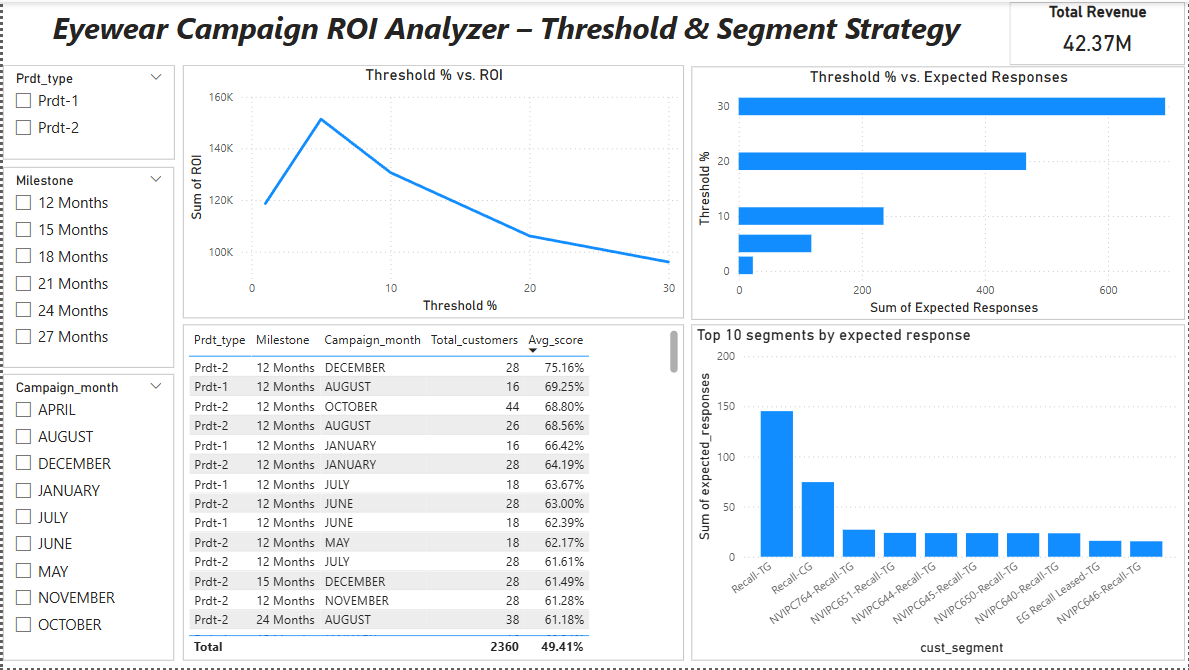

The dashboard page shown, as its layout file describes it:
{"tool":"powerbi","page":{"name":"Page 1","canvas":[1280,720],"ordinal":0},"visuals":[{"type":"lineChart","title":"Threshold % vs. ROI","fields":{"Category":["Threshold_ROI_Summary.Threshold %"],"Y":["Sum(Threshold_ROI_Summary.ROI)"]},"box":[194.3,68,540.8,273.6],"z":0},{"type":"barChart","title":"Threshold % vs. Expected Responses ","fields":{"Category":["Threshold_ROI_Summary.Threshold %"],"Y":["Sum(Threshold_ROI_Summary.Expected Responses)"]},"box":[743.2,69.6,532.7,273.6],"z":1000},{"type":"tableEx","fields":{"Values":["Campaign_Segment_Performance.prdt_type","Campaign_Segment_Performance.milestone","Campaign_Segment_Performance.campaign_month","Sum(Campaign_Segment_Performance.total_customers)","Avg(Campaign_Segment_Performance.avg_score)"]},"box":[194.3,348.1,540.8,362.7],"z":2000},{"type":"clusteredColumnChart","title":"Top 10 segments by expected response ","fields":{"Category":["Campaign_Segment_Performance.cust_segment"],"Y":["Sum(Campaign_Segment_Performance.expected_responses)"]},"box":[743.2,348.1,532.7,362.7],"z":3000},{"type":"card","title":"Total Revenue","fields":{"Values":["Sum(Threshold_ROI_Summary.Actual Revenue (USD))"]},"box":[1086.5,0,189.4,68],"z":4000},{"type":"slicer","fields":{"Values":["Campaign_Segment_Performance.prdt_type"]},"box":[0,68,185,102],"z":5000},{"type":"slicer","fields":{"Values":["Campaign_Segment_Performance.milestone"]},"box":[0,177.3,184.6,217],"z":6000},{"type":"slicer","fields":{"Values":["Campaign_Segment_Performance.campaign_month"]},"box":[0,401.6,184.6,309.3],"z":7000},{"type":"textbox","box":[0,0,1086.5,68],"z":7001}]}

Visuals, with their boxes in screenshot pixels (x1, y1, x2, y2), scaled from the page's 1280x720 canvas onto the 1189x670 screenshot:
"Threshold % vs. ROI" lineChart: x1=180, y1=63, x2=683, y2=318
"Threshold % vs. Expected Responses " barChart: x1=690, y1=65, x2=1185, y2=319
tableEx - Campaign_Segment_Performance.prdt_type x Campaign_Segment_Performance.milestone: x1=180, y1=324, x2=683, y2=661
"Top 10 segments by expected response " clusteredColumnChart: x1=690, y1=324, x2=1185, y2=661
"Total Revenue" card: x1=1009, y1=0, x2=1185, y2=63
slicer - Campaign_Segment_Performance.prdt_type: x1=0, y1=63, x2=172, y2=158
slicer - Campaign_Segment_Performance.milestone: x1=0, y1=165, x2=171, y2=367
slicer - Campaign_Segment_Performance.campaign_month: x1=0, y1=374, x2=171, y2=662
textbox: x1=0, y1=0, x2=1009, y2=63
